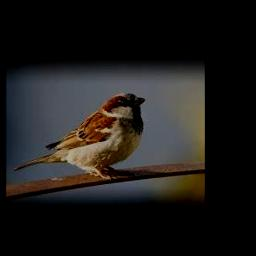Sparrow: (14, 93, 145, 180)
